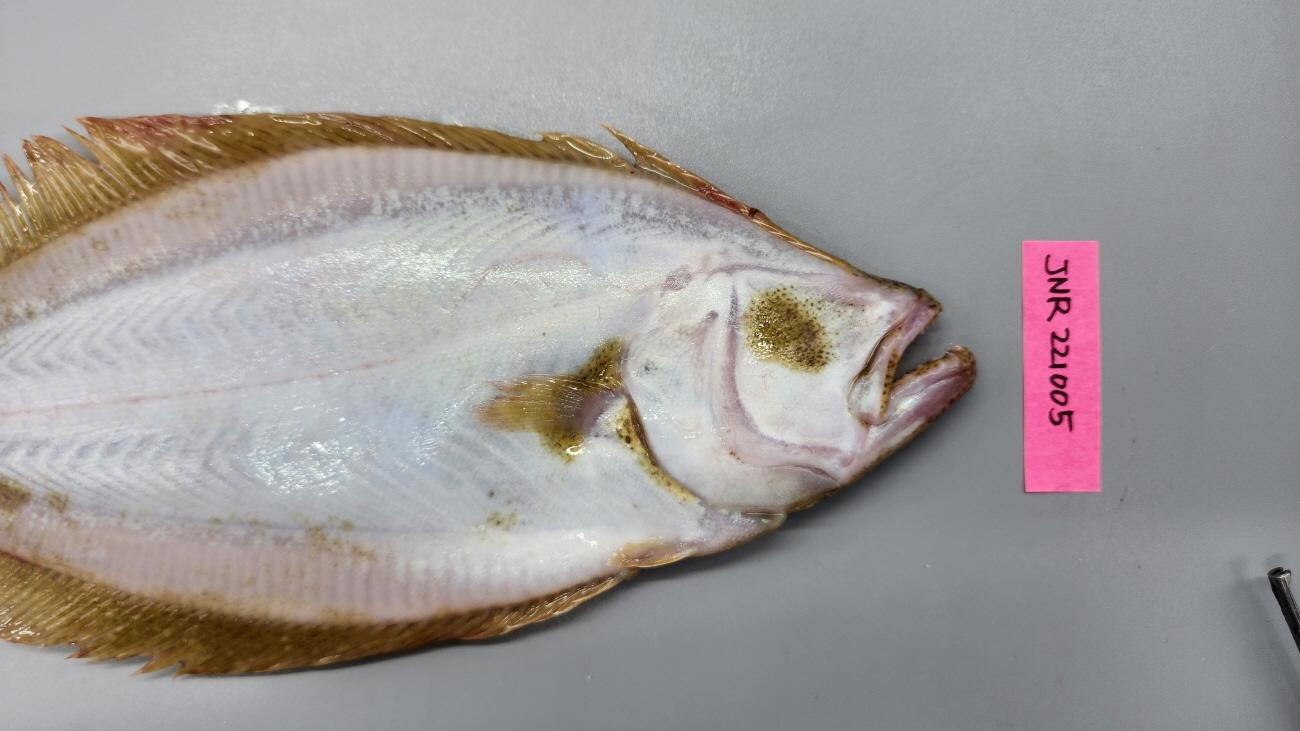POOUN: (0, 111, 977, 685)
